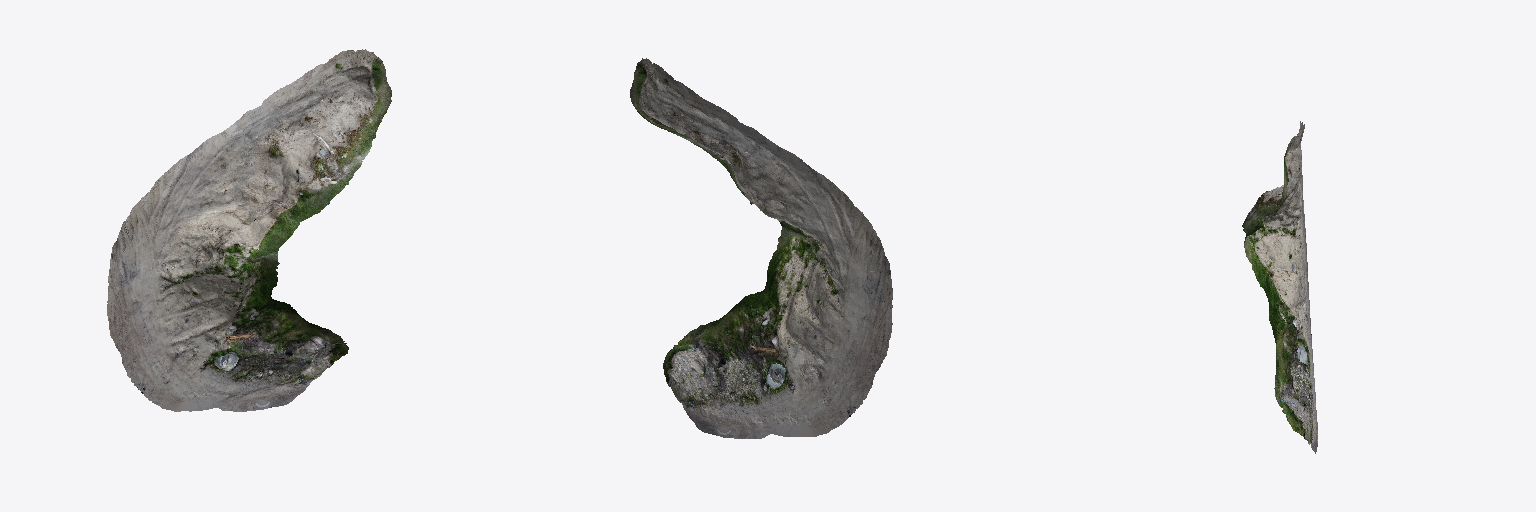
The picture shows the model from 3 angles: view 1: azimuth 30°, elevation 25°; view 2: azimuth 150°, elevation 25°; view 3: azimuth 270°, elevation 25°; orthographic projection.
Bounding box in the file's own units: 24.16 × 29.36 × 5.8.
1 materials, 1 textured.